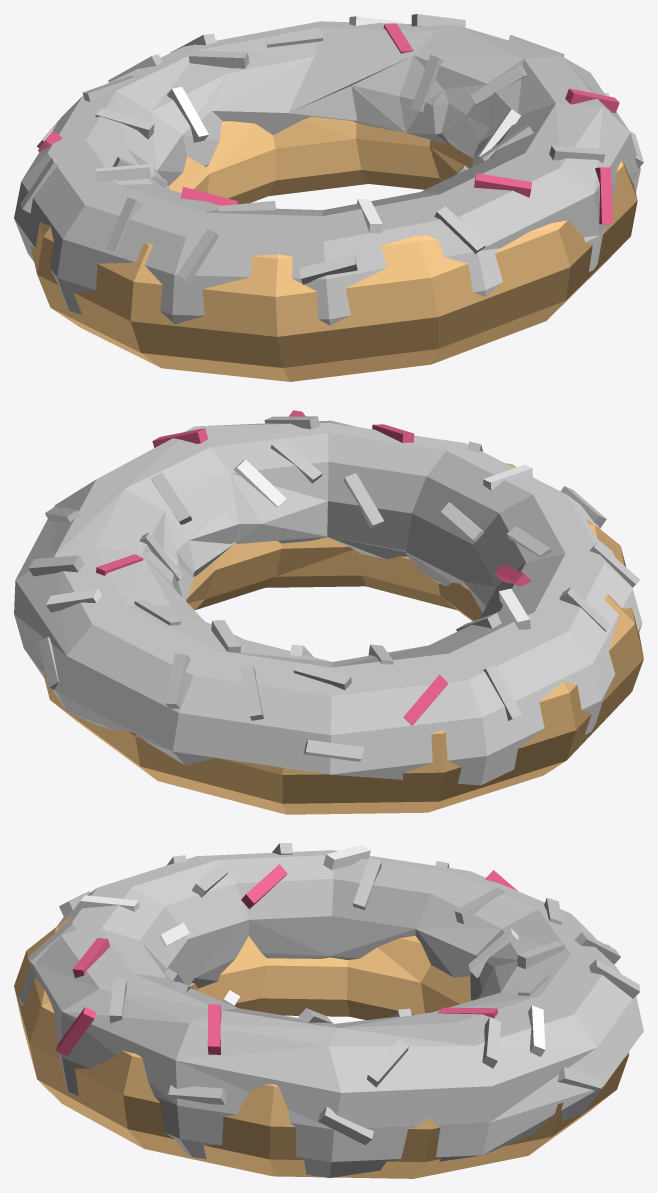
File: Chocolatev2.obj
3 views of the same model, one above another, from view 1: azimuth 30°, elevation 25°; view 2: azimuth 150°, elevation 25°; view 3: azimuth 270°, elevation 25° (orthographic).
Visible parts, largest first — view 1: group1671565721; view 2: group1671565721; view 3: group1671565721.
Boxes of the visible parts, x1,y1,x2,y2 form: group1671565721: (14,14,643,381); group1671565721: (14,410,643,814); group1671565721: (14,843,643,1178).
Bounding box in the file's own units: 0.456 × 0.1568 × 0.4536.
